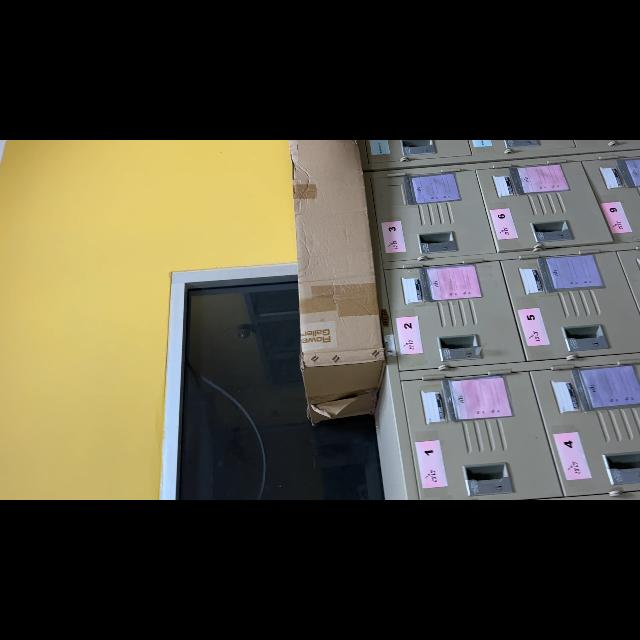cardboard_box: (283, 140, 383, 434)
